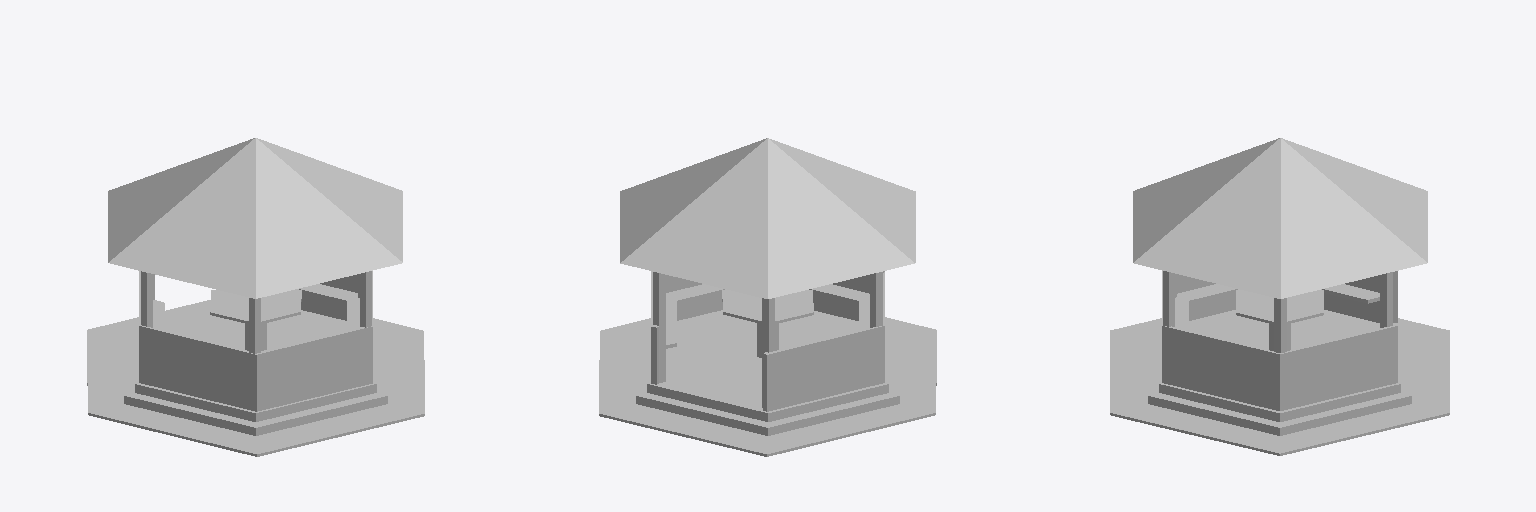
Rendered from LittleHouse.obj.
3 views of the same model, side by side, from view 1: azimuth 30°, elevation 25°; view 2: azimuth 150°, elevation 25°; view 3: azimuth 270°, elevation 25° (orthographic).
Parts seen in each view (by area): view 1: Solid1, Cylinder4, Cylinder3, Cylinder2, Cylinder1, Cylinder9, Cylinder8, Cylinder14, Cylinder15, Cylinder13; view 2: Solid1, Cylinder3, Cylinder2, Cylinder4, Cylinder1, Cylinder8, Cylinder9, Cylinder11, Cylinder12, Cylinder13; view 3: Solid1, Cylinder4, Cylinder3, Cylinder2, Cylinder1, Cylinder9, Cylinder8, Cylinder16, Cylinder15, Cylinder11.
Part boxes in pixels (x1,y1,x2,y2): Solid1: (108, 138, 402, 298); Cylinder4: (139, 271, 372, 411); Cylinder3: (87, 300, 424, 456); Cylinder2: (135, 307, 376, 421); Cylinder1: (124, 329, 387, 435); Cylinder9: (210, 289, 301, 323); Cylinder8: (153, 284, 359, 330); Cylinder14: (249, 298, 260, 353); Cylinder15: (360, 271, 371, 327); Cylinder13: (141, 271, 152, 327); Solid1: (620, 138, 915, 298); Cylinder3: (599, 317, 936, 456); Cylinder2: (647, 310, 888, 421); Cylinder4: (651, 271, 884, 411); Cylinder1: (636, 329, 899, 435); Cylinder8: (666, 284, 869, 348); Cylinder9: (722, 289, 813, 323); Cylinder11: (653, 272, 665, 382); Cylinder12: (762, 298, 774, 407); Cylinder13: (870, 272, 882, 327); Solid1: (1133, 138, 1427, 298); Cylinder4: (1162, 271, 1397, 410); Cylinder3: (1110, 318, 1449, 455); Cylinder2: (1159, 310, 1400, 421); Cylinder1: (1148, 329, 1411, 435); Cylinder9: (1236, 289, 1323, 324); Cylinder8: (1175, 284, 1379, 330); Cylinder16: (1274, 298, 1286, 352); Cylinder15: (1163, 271, 1174, 326); Cylinder11: (1381, 272, 1392, 327).
Bounding box in the file's own units: 4.77 × 3.21 × 4.19.